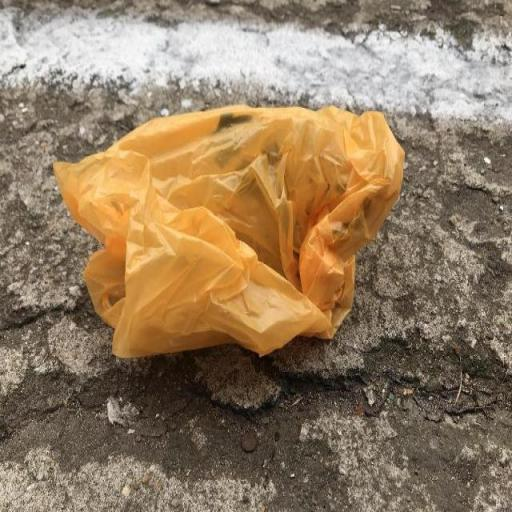plastic-bag: (49, 98, 406, 364)
